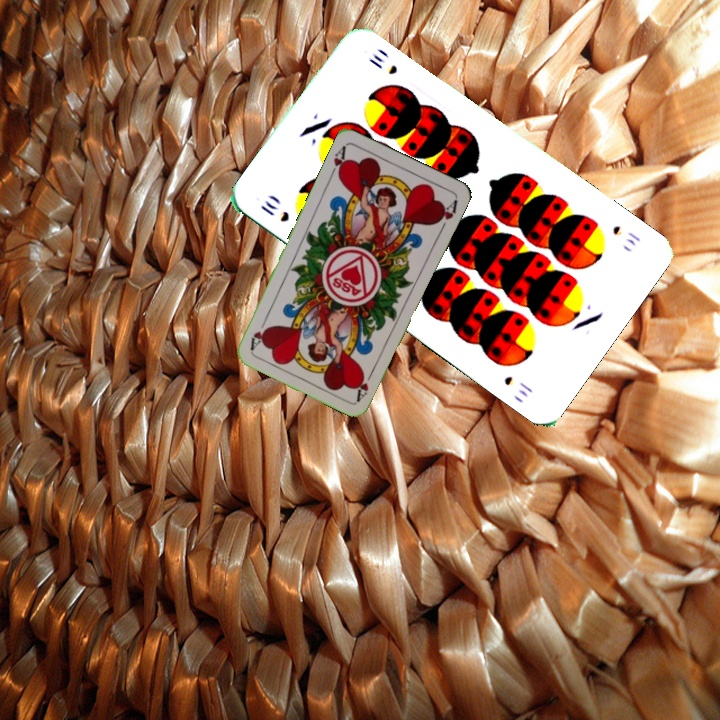HA: (325, 142, 350, 182), (353, 365, 377, 403)
S10: (256, 196, 292, 225), (608, 221, 643, 249)
